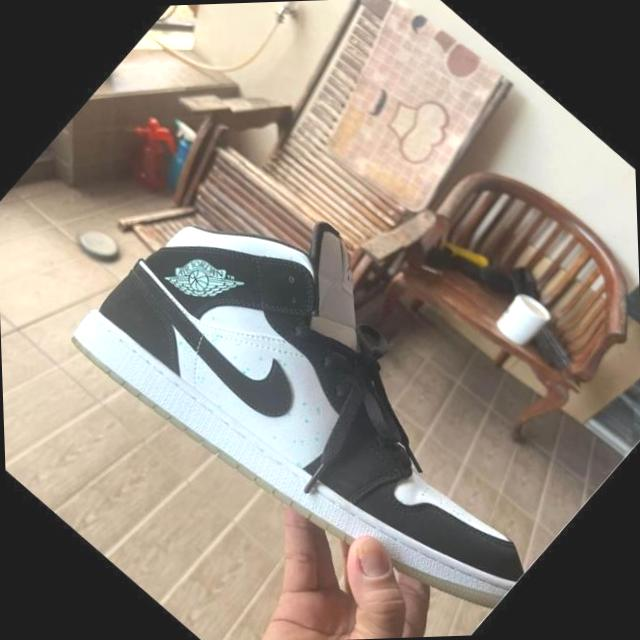nike_fake_jordan: (55, 123, 620, 640)
